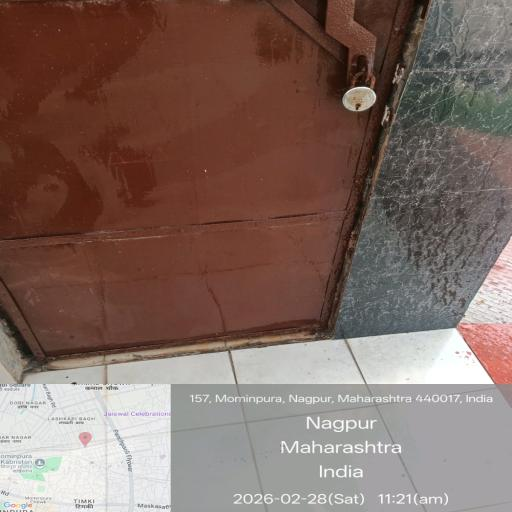clean_floor: (78, 71, 392, 358)
